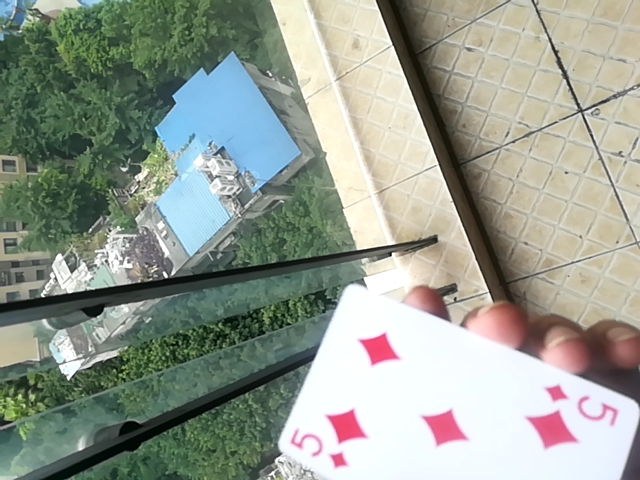fk 5: (262, 275, 639, 480)
